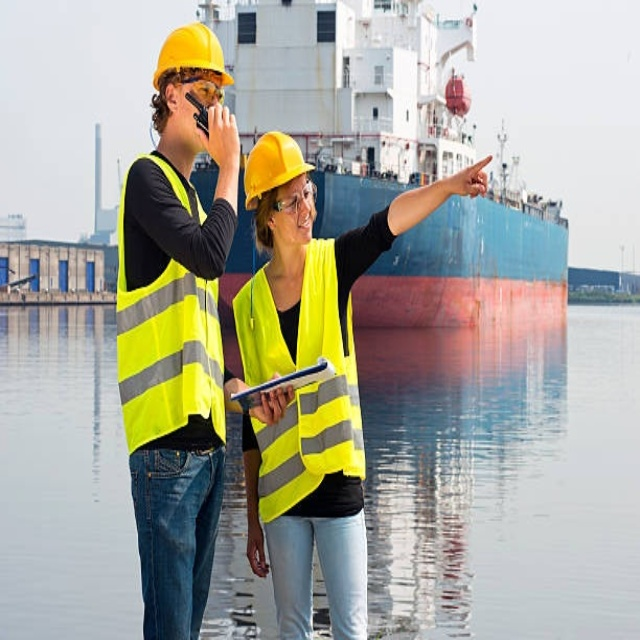Gafas: (176, 77, 224, 108), (273, 183, 315, 215)
Sin_guantes: (442, 152, 496, 204), (199, 105, 238, 176), (250, 372, 295, 426), (245, 515, 274, 579)
Sin_mascara: (296, 216, 317, 242)
